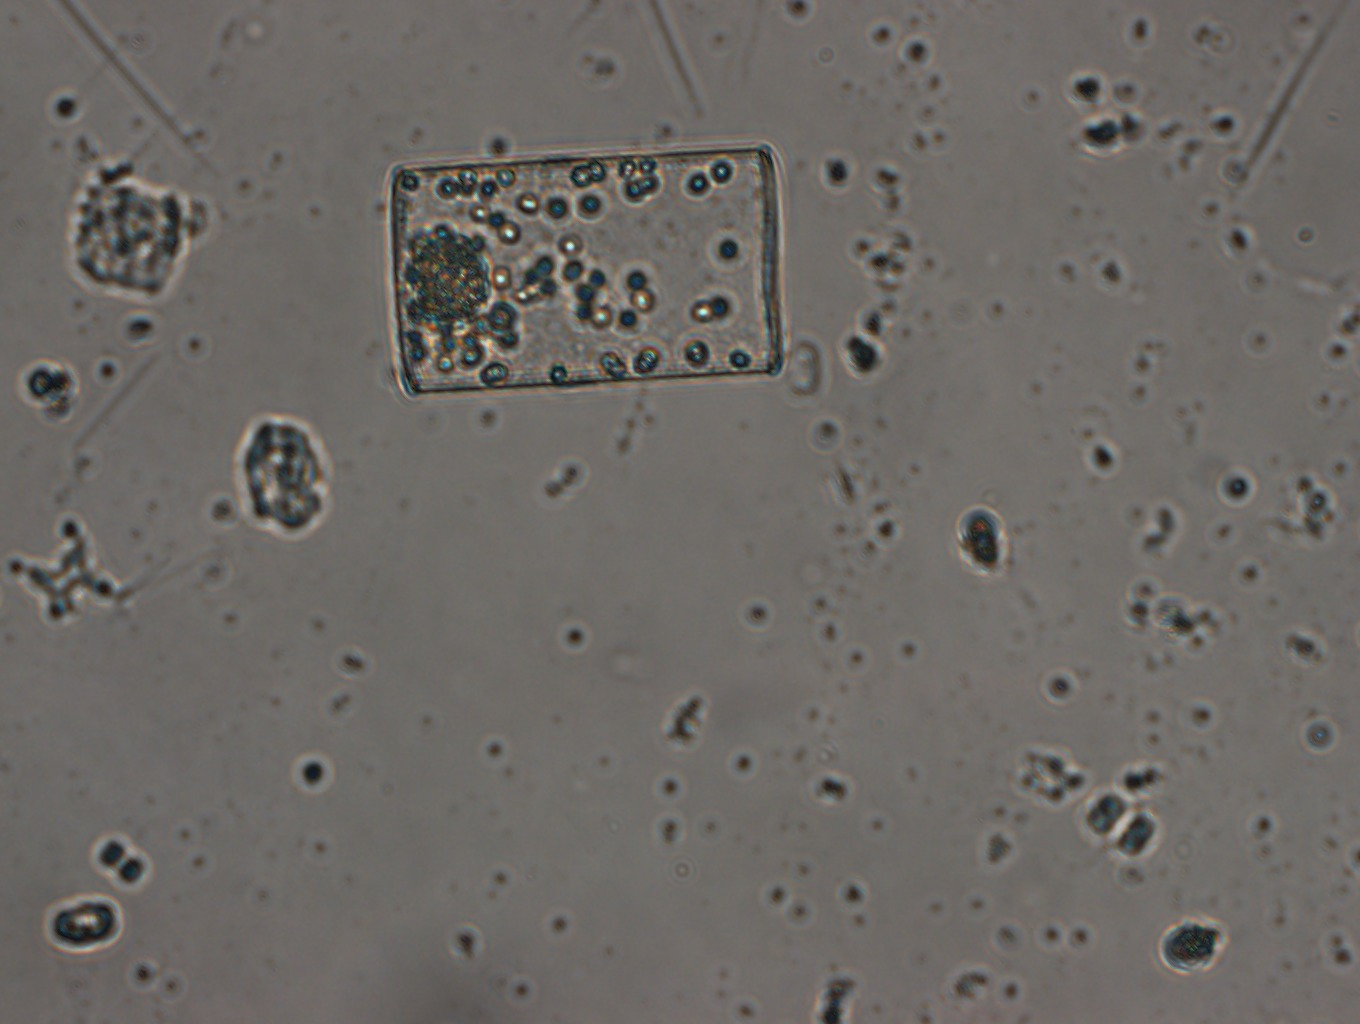guinardia flaccida: (382, 136, 796, 400)
